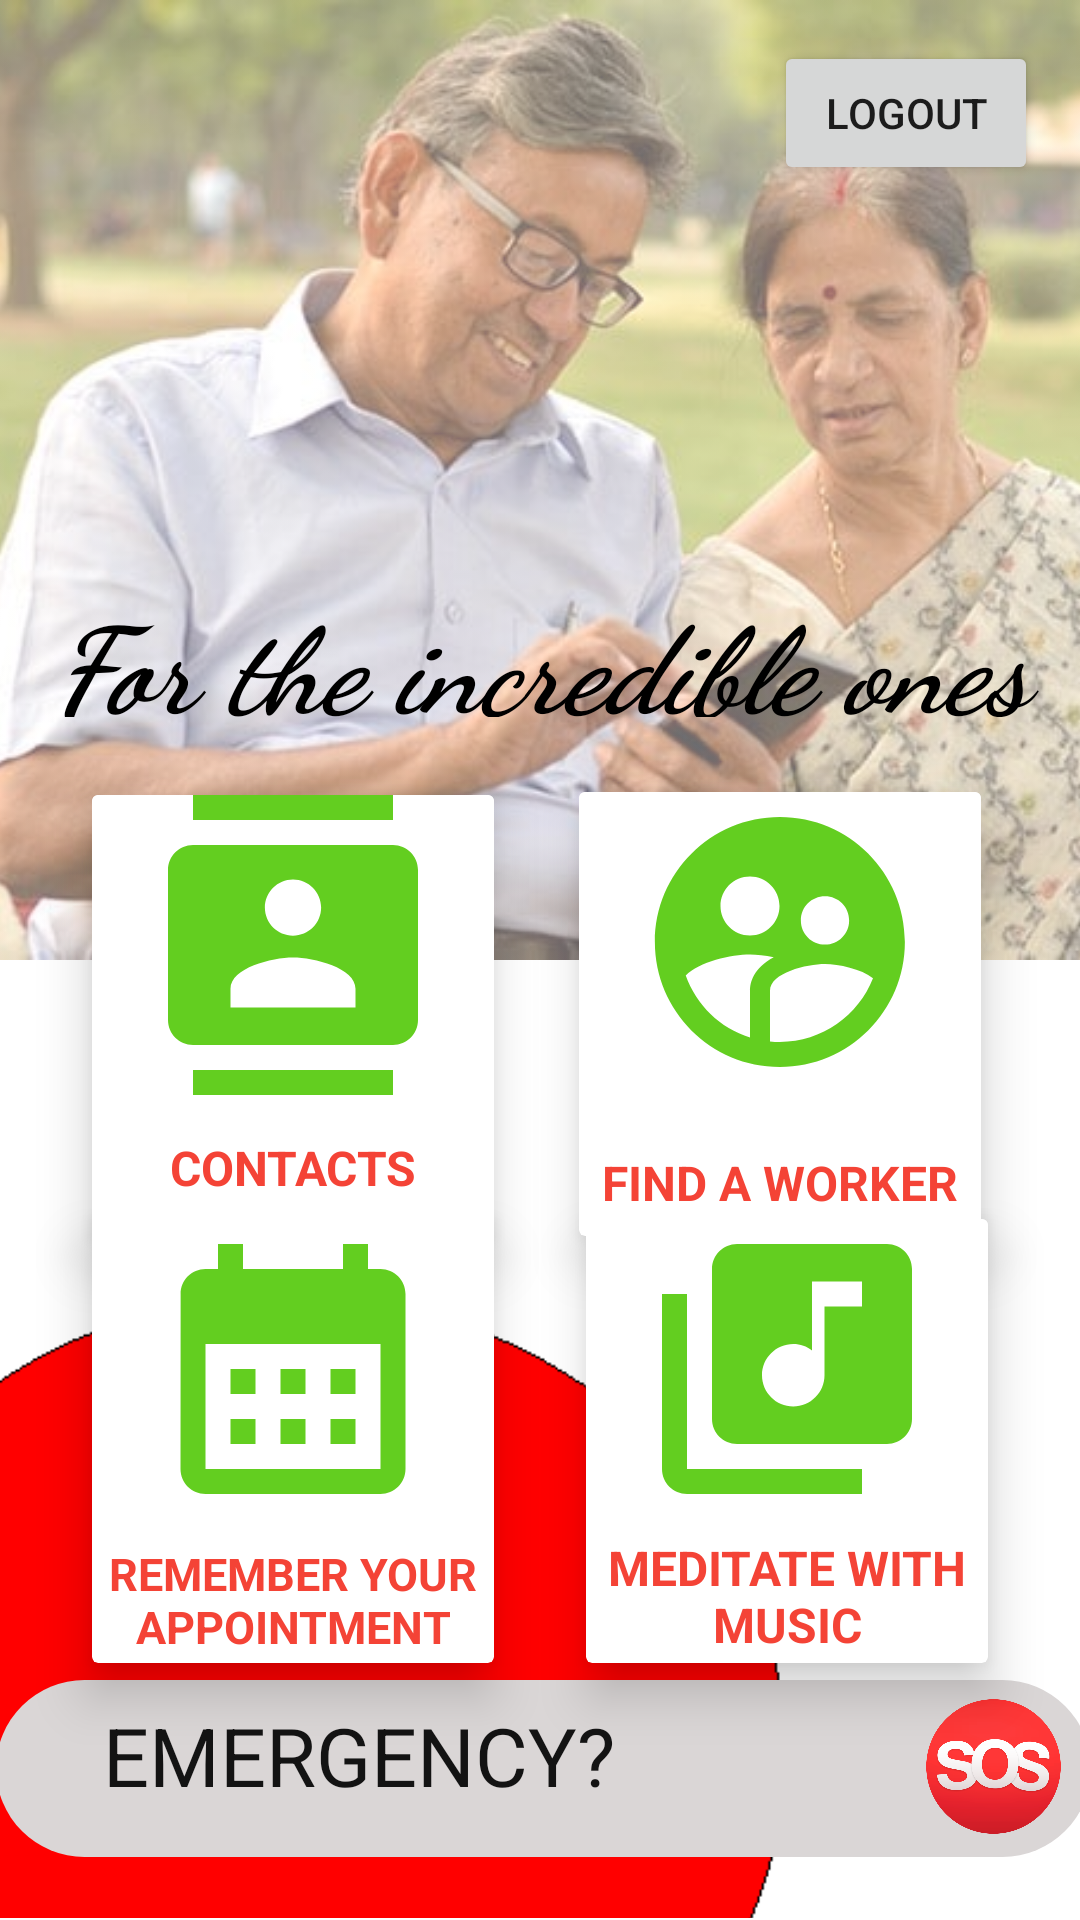

Icons on this 1080w x 1920h Android screen, each with its box as (x1, y1, x2, y2):
calendar month: (180, 1244, 406, 1494)
library music: (662, 1244, 912, 1494)
supervised user circle: (654, 817, 905, 1067)
